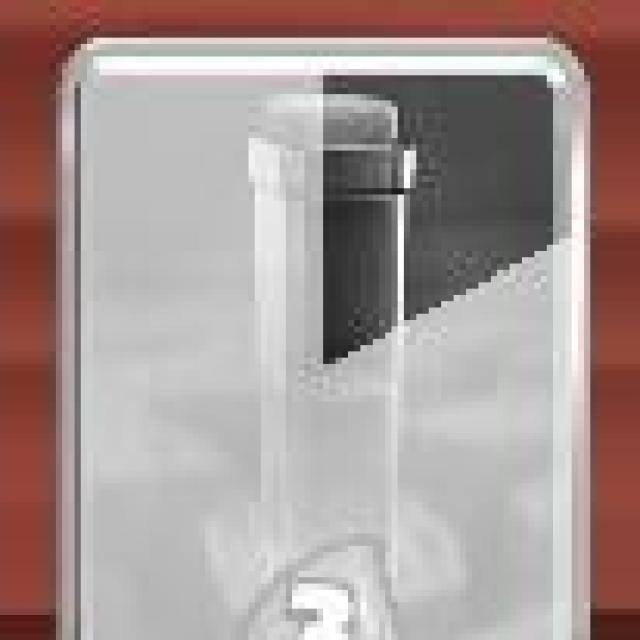Earthquake: (52, 38, 588, 640)
